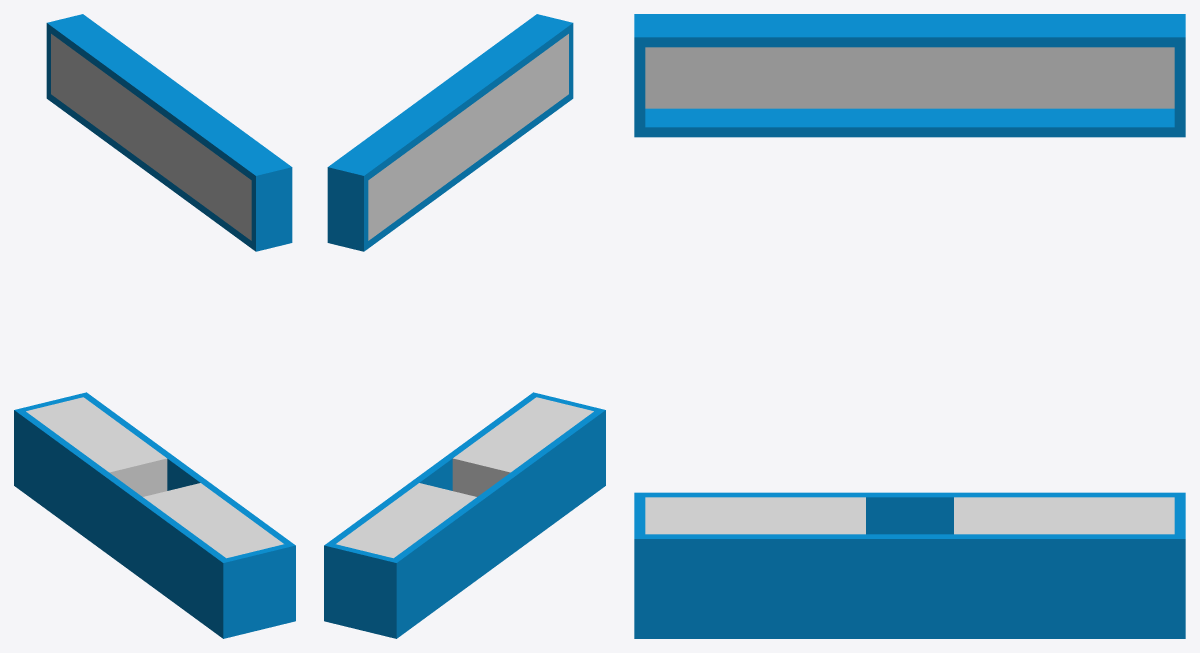
Rendered from stage2.fbx.
The picture shows the model from 3 angles, left to right: view 1: azimuth 30°, elevation 25°; view 2: azimuth 150°, elevation 25°; view 3: azimuth 270°, elevation 25°; orthographic projection. The views are drawn at different scales.
Parts seen in each view (by area): view 1: kado3d.004, kado2d.003, tyoku3d.004, kado3d, ana3d, tyoku3d, kado2d.004, tyoku2d.005, tyoku2d.006, tyoku2d.004; view 2: kado3d, kado2d.004, tyoku3d, kado3d.004, ana3d, tyoku3d.004, kado2d.003, tyoku2d.004, tyoku2d.005, tyoku2d.006; view 3: kado3d.004, kado3d, tyoku3d, tyoku3d.004, ana3d, kado2d.003, kado2d.004, tyoku2d.004, tyoku2d.006, tyoku2d.005.
Boxes of the visible parts, <box> form: kado3d.004: <box>181,515,295,638</box>; kado2d.003: <box>214,136,292,251</box>; tyoku3d.004: <box>139,484,253,607</box>; kado3d: <box>14,392,127,515</box>; ana3d: <box>98,453,211,577</box>; tyoku3d: <box>56,423,169,546</box>; kado2d.004: <box>46,14,124,128</box>; tyoku2d.005: <box>130,75,207,189</box>; tyoku2d.006: <box>88,44,166,159</box>; tyoku2d.004: <box>172,106,249,220</box>; kado3d: <box>324,515,438,638</box>; kado2d.004: <box>327,136,405,251</box>; tyoku3d: <box>366,484,480,607</box>; kado3d.004: <box>492,392,605,515</box>; ana3d: <box>408,453,521,577</box>; tyoku3d.004: <box>450,423,563,546</box>; kado2d.003: <box>495,14,573,128</box>; tyoku2d.004: <box>453,44,531,159</box>; tyoku2d.005: <box>412,75,489,189</box>; tyoku2d.006: <box>370,106,447,220</box>; kado3d.004: <box>634,492,744,638</box>; kado3d: <box>1075,492,1185,638</box>; tyoku3d: <box>965,492,1075,638</box>; tyoku3d.004: <box>744,492,854,638</box>; ana3d: <box>855,492,964,638</box>; kado2d.003: <box>634,14,744,137</box>; kado2d.004: <box>1075,14,1185,137</box>; tyoku2d.004: <box>744,14,854,137</box>; tyoku2d.006: <box>965,14,1075,137</box>; tyoku2d.005: <box>855,14,964,137</box>.
Size of the model in its own units: 2000 by 12000 by 10000.
